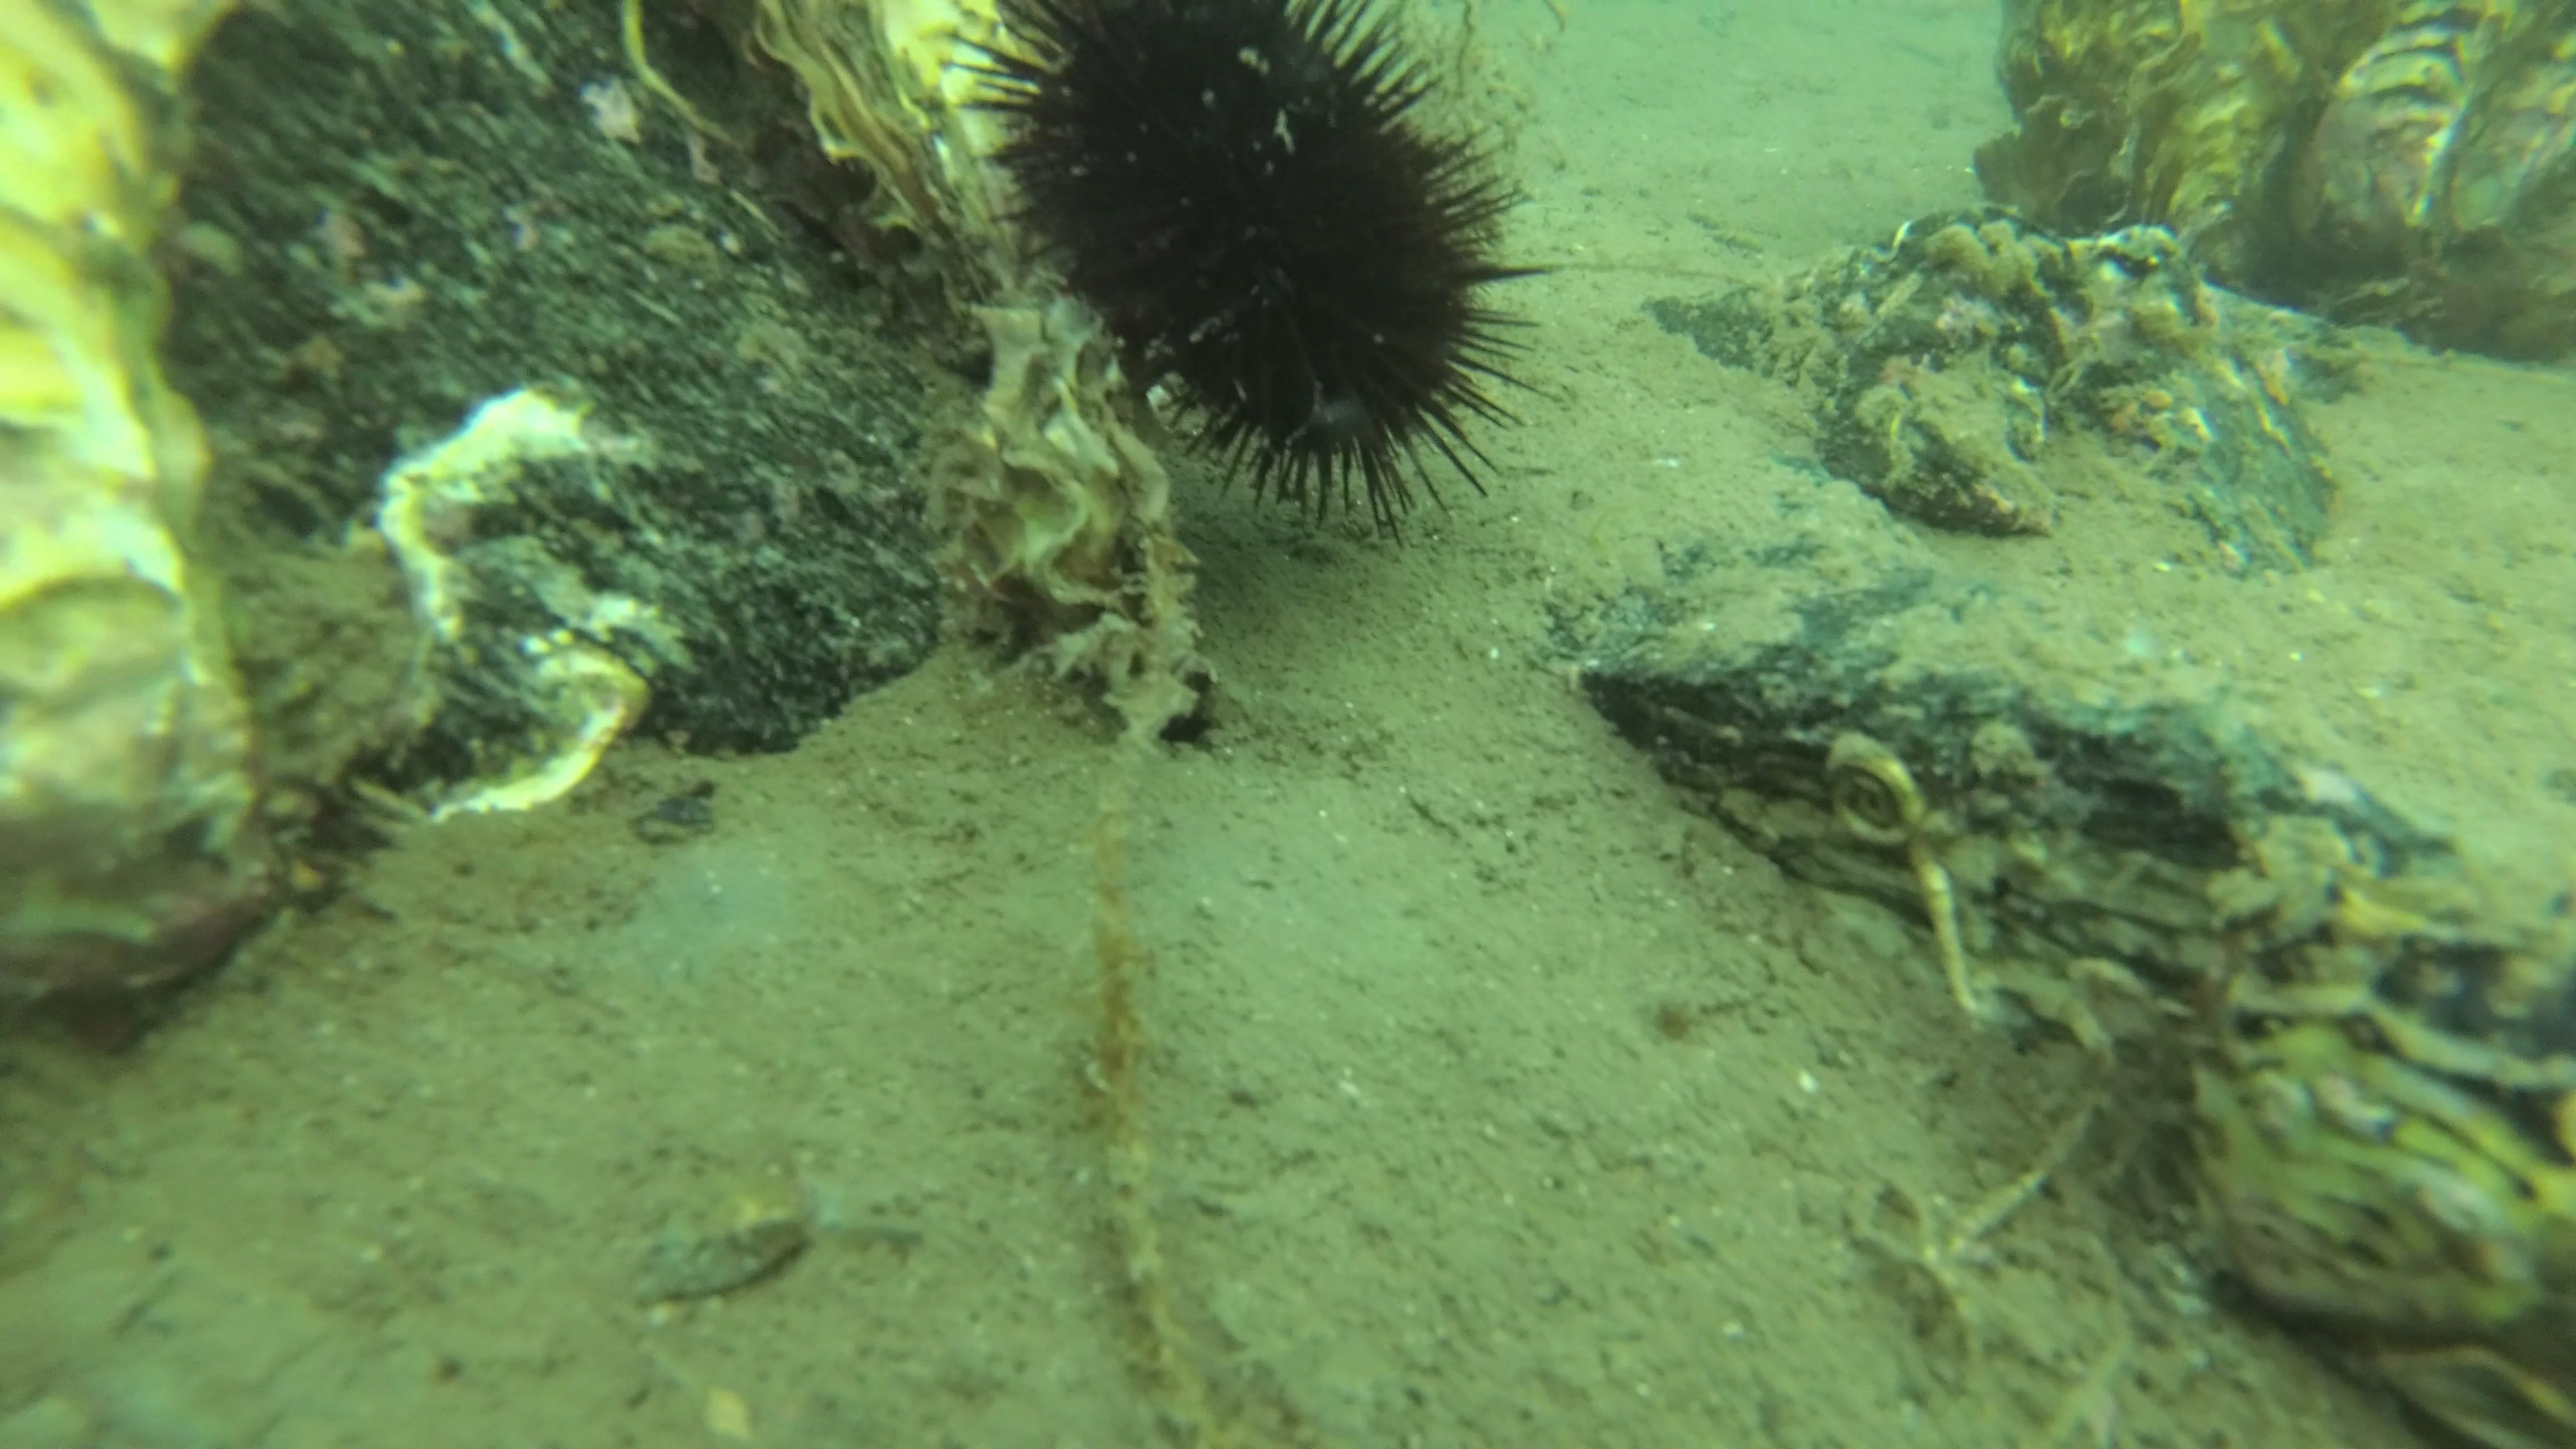echinus: (950, 0, 1553, 531)
